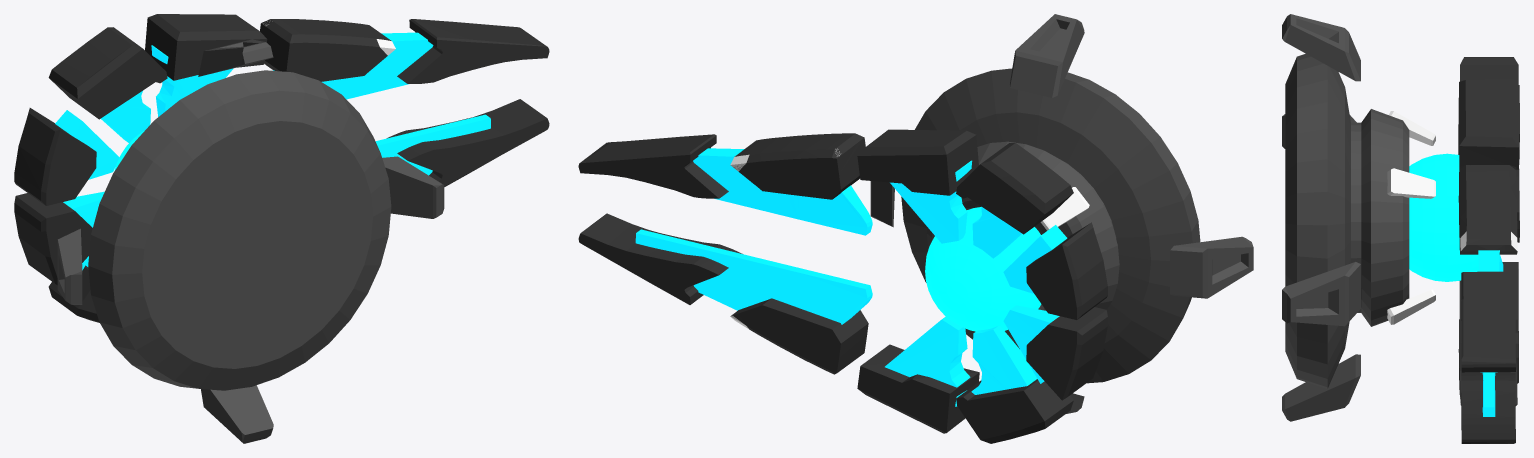
File: Sentinel.fbx
3 views of the same model, side by side, from view 1: azimuth 30°, elevation 25°; view 2: azimuth 150°, elevation 25°; view 3: azimuth 270°, elevation 25° (orthographic).
Visible parts, largest first — view 1: Sphere.021, Sphere; view 2: Sphere, Sphere.021; view 3: Sphere.021, Sphere.
Part boxes in pixels (bbox=[...]): Sphere.021: bbox=[57, 39, 444, 443]; Sphere: bbox=[14, 14, 549, 322]; Sphere: bbox=[578, 129, 1107, 443]; Sphere.021: bbox=[870, 14, 1253, 413]; Sphere.021: bbox=[1282, 14, 1435, 421]; Sphere: bbox=[1409, 57, 1519, 443].
Bounding box in the file's own units: 1876 × 1248 × 678.
